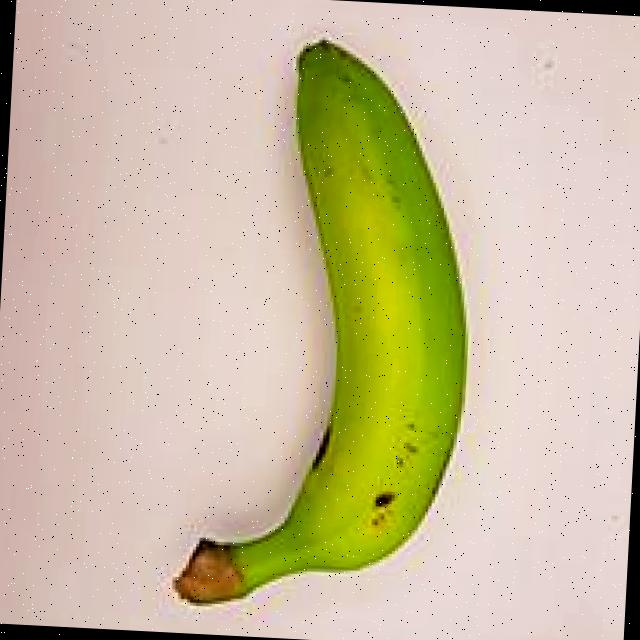Unripe: (144, 7, 502, 640)
